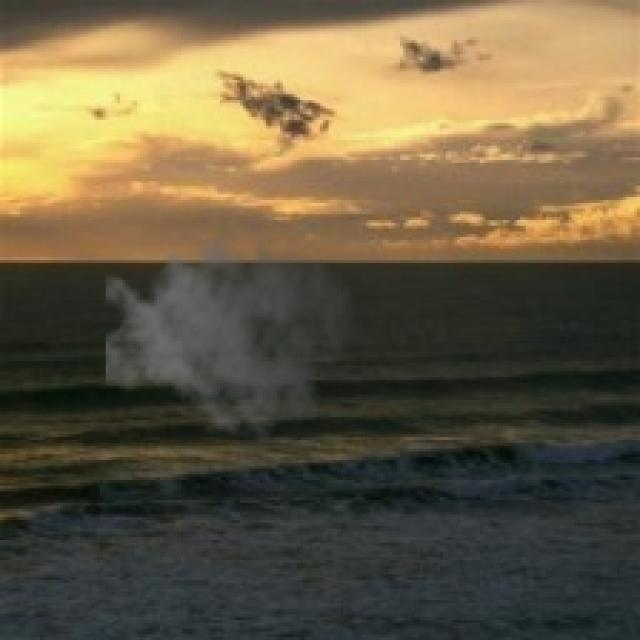smoke: (106, 211, 357, 446)
